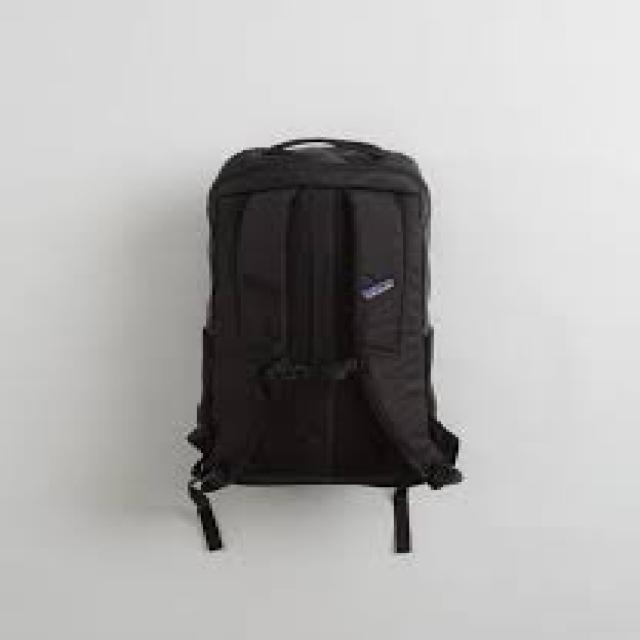backpack: (186, 135, 463, 554)
